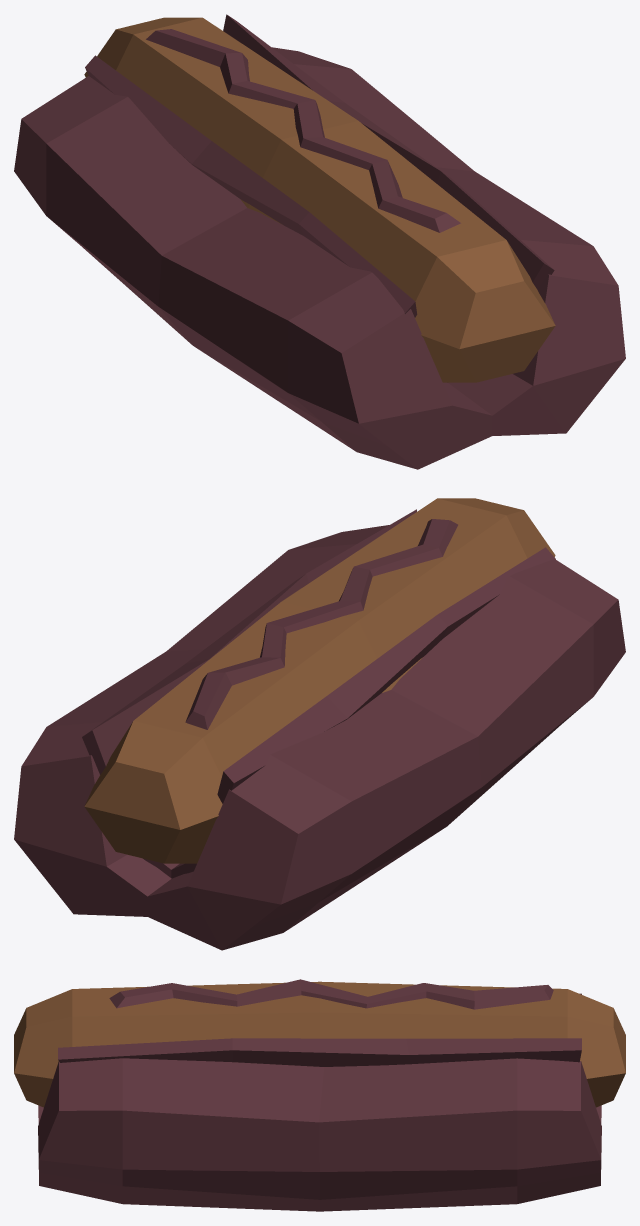
Rendered from hotdog.fbx.
3 views of the same model, one above another, from view 1: azimuth 30°, elevation 25°; view 2: azimuth 150°, elevation 25°; view 3: azimuth 270°, elevation 25° (orthographic). The views are drawn at different scales.
Visible parts, largest first — view 1: hotdog; view 2: hotdog; view 3: hotdog.
Part boxes in pixels (<box>): hotdog: <box>14,14,625,469</box>; hotdog: <box>14,498,625,950</box>; hotdog: <box>14,979,625,1211</box>.
Size of the model in its own units: 0.1071 by 0.0736 by 0.2172.
